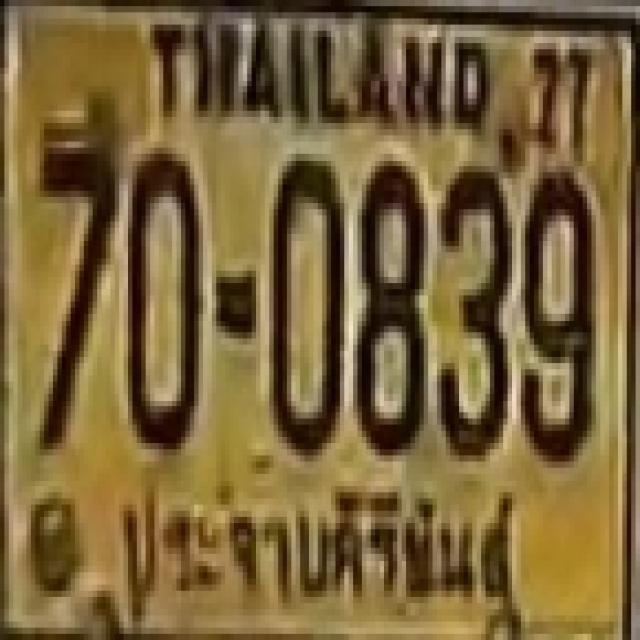0: (124, 145, 198, 446), (269, 154, 340, 449)
3: (432, 163, 508, 452)
7: (35, 123, 115, 437)
8: (353, 154, 419, 449)
9: (516, 167, 592, 456)
PKN: (114, 472, 528, 620)
